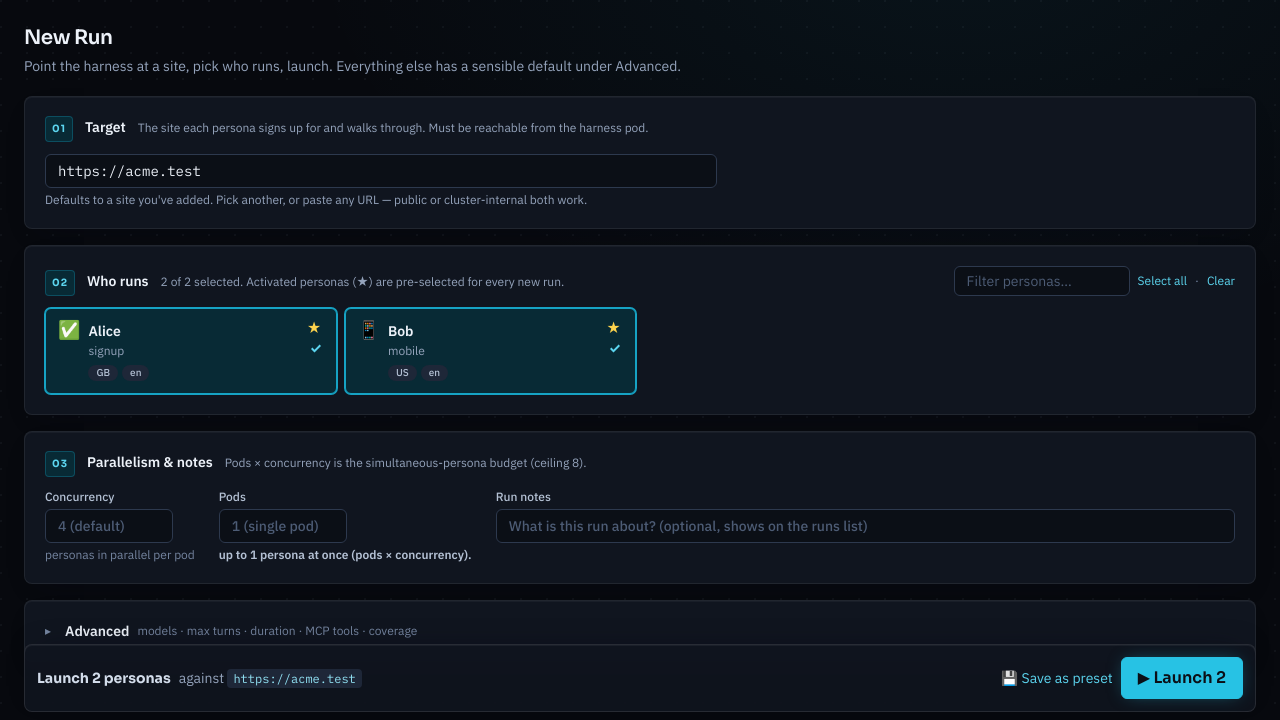
Test: <NewRun> — #1822 inline activation star › star PATCHes is_active toggled via updatePersona (deactivate)
The width and height of the screenshot is (1280, 720).
Click the button with test id "persona-default-toggle-alice".
click(314, 328)  # box [307,319,322,337]
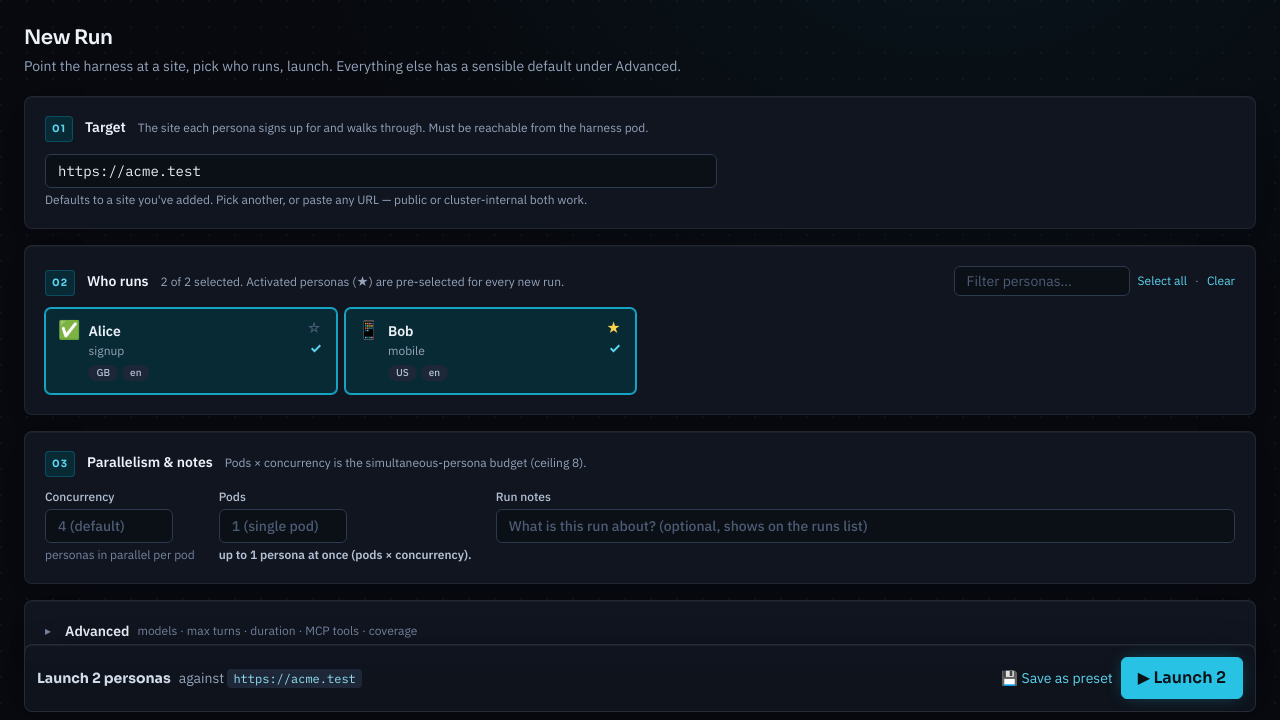
Expected: the button with test id "persona-default-toggle-alice" reads "☆", [307,319,322,337]
